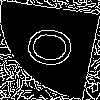O: (25, 24, 85, 71)
